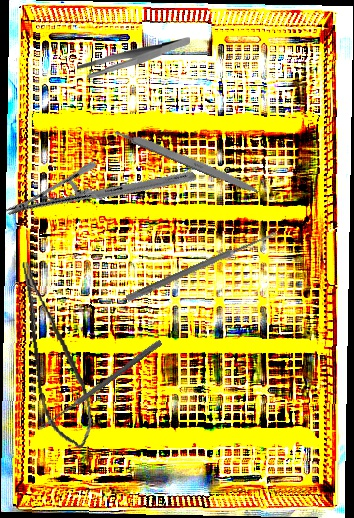Dressing Forceps: (76, 37, 191, 78)
Micro Scissor: (15, 255, 99, 454)
Needle Holder: (4, 100, 198, 287)
Scalpel Handle: (114, 125, 261, 196)
Surgical Spoon: (37, 338, 163, 433), (125, 228, 279, 304)
